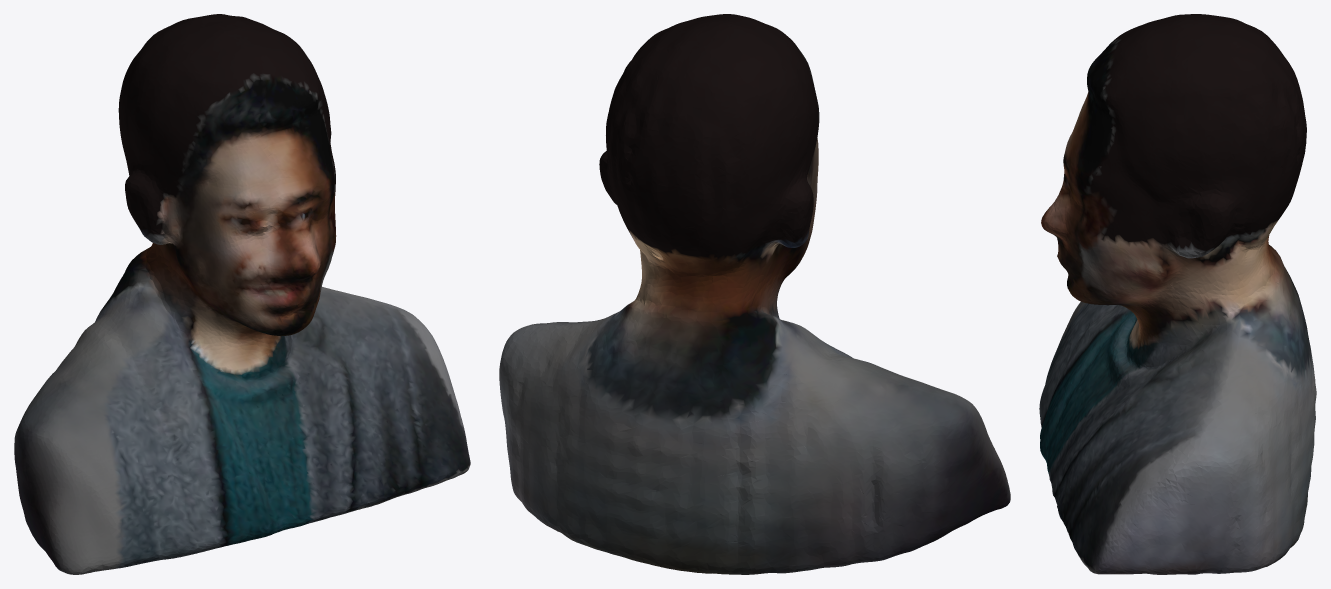
The model's file is portrait-bust.gltf.
The picture shows the model from 3 angles, left to right: view 1: azimuth 30°, elevation 25°; view 2: azimuth 150°, elevation 25°; view 3: azimuth 270°, elevation 25°; orthographic projection. The views are drawn at different scales.
Parts seen in each view (by area): view 1: bust; view 2: bust; view 3: bust.
Boxes of the visible parts, left/top/right/bottom form: bust: left=14, top=14, right=470, bottom=574; bust: left=499, top=14, right=1010, bottom=574; bust: left=1039, top=14, right=1316, bottom=574.
Bounding box in the file's own units: 1.06 × 1.15 × 0.5967.
